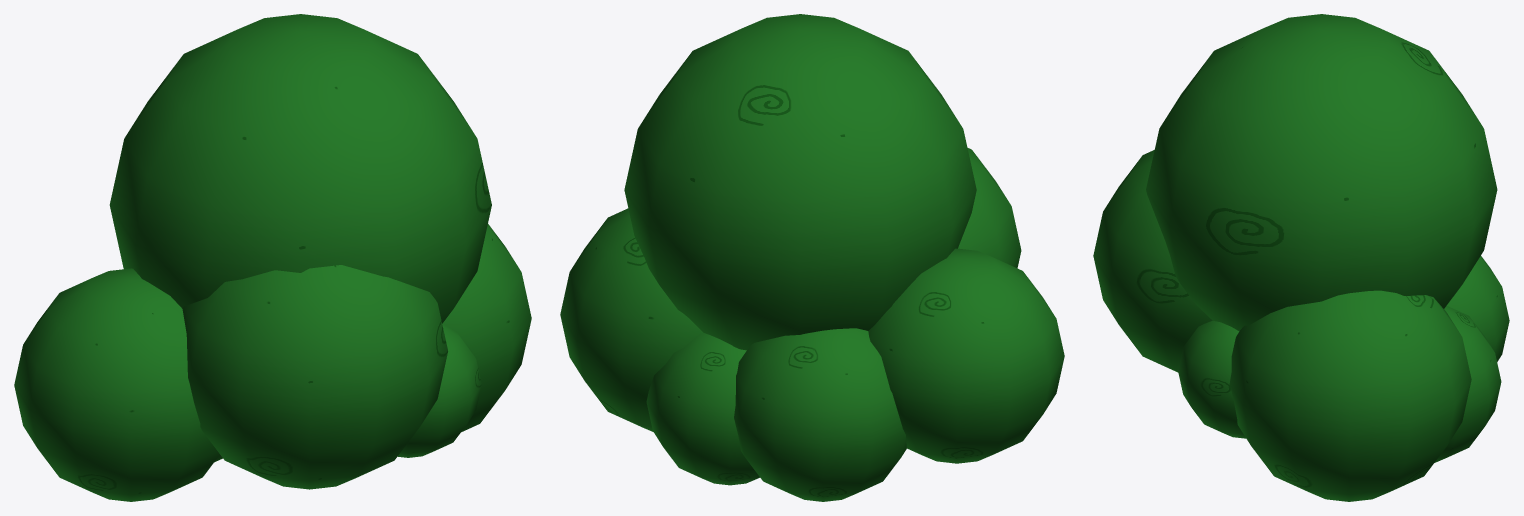
The model's file is Bush1.fbx.
The picture shows the model from 3 angles, left to right: view 1: azimuth 30°, elevation 25°; view 2: azimuth 150°, elevation 25°; view 3: azimuth 270°, elevation 25°; orthographic projection. The views are drawn at different scales.
Parts seen in each view (by area): view 1: Sphere.014; view 2: Sphere.014; view 3: Sphere.014.
Part boxes in pixels (<box>): Sphere.014: <box>14,14,531,501</box>; Sphere.014: <box>560,14,1064,501</box>; Sphere.014: <box>1093,14,1509,501</box>.
Size of the model in its own units: 178 by 155 by 140.
Materials: 1 (1 with a texture image).
